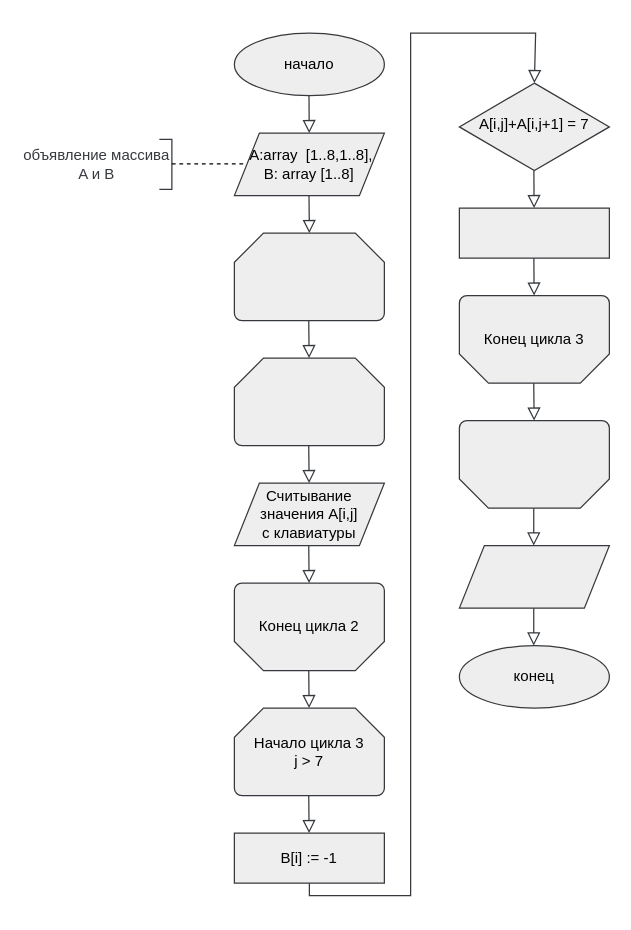
Image size: 631x930. Some labels were removed from this diagram. Here are the shapes that lost their labels. From the top down, the centre of each, then its label:
(533,232): B[i] := 1
(308,276): Начало цикла 1 i > 8
(308,401): Начало цикла 2 j > 8
(533,463): Конец цикла 1
(533,576): Вывод B
